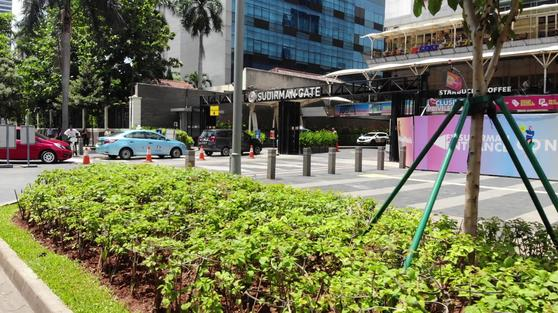bike: (67, 132, 82, 161)
